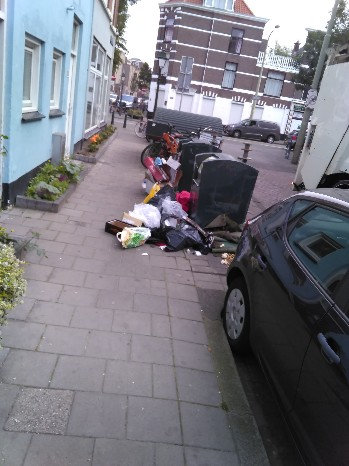Container: (182, 146, 248, 227), (183, 135, 213, 161)
Rest: (128, 211, 174, 250), (164, 217, 205, 250), (113, 210, 149, 243), (151, 185, 175, 212), (153, 170, 172, 198), (159, 156, 181, 172)
Voertuig: (229, 200, 349, 409)
